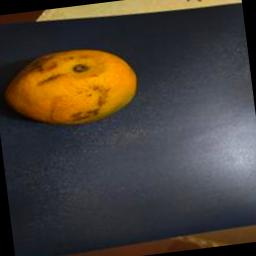Orange Unripe: (1, 36, 147, 139)
